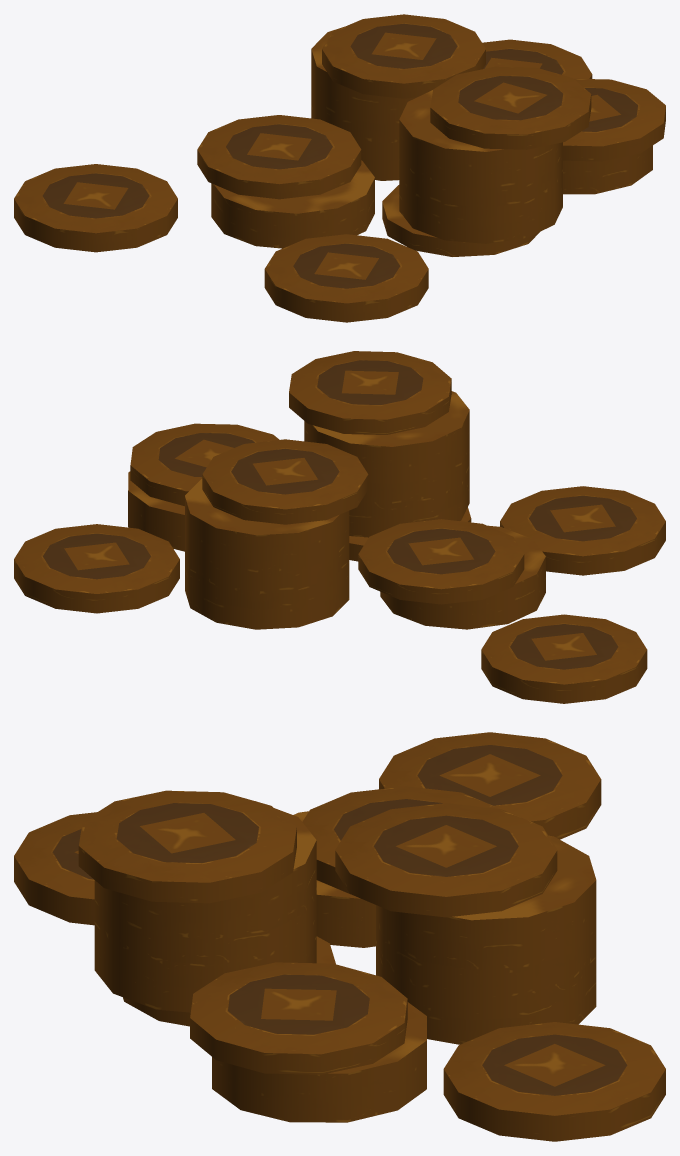
The model's file is coin_pile_2.gltf.
3 views of the same model, one above another, from view 1: azimuth 30°, elevation 25°; view 2: azimuth 150°, elevation 25°; view 3: azimuth 270°, elevation 25° (orthographic). The views are drawn at different scales.
Visible parts, largest first — view 1: Coin_Pile_2; view 2: Coin_Pile_2; view 3: Coin_Pile_2.
Part boxes in pixels (bbox=[...]): Coin_Pile_2: bbox=[14, 14, 665, 322]; Coin_Pile_2: bbox=[14, 351, 665, 703]; Coin_Pile_2: bbox=[14, 732, 665, 1141].
Size of the model in its own units: 0.2787 by 0.0584 by 0.2002.
Materials: 1 (1 with a texture image).
